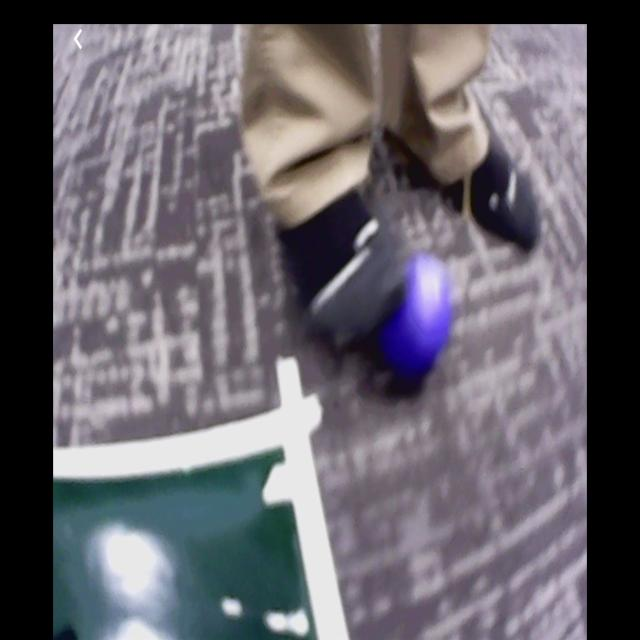ball: (385, 249, 452, 376)
